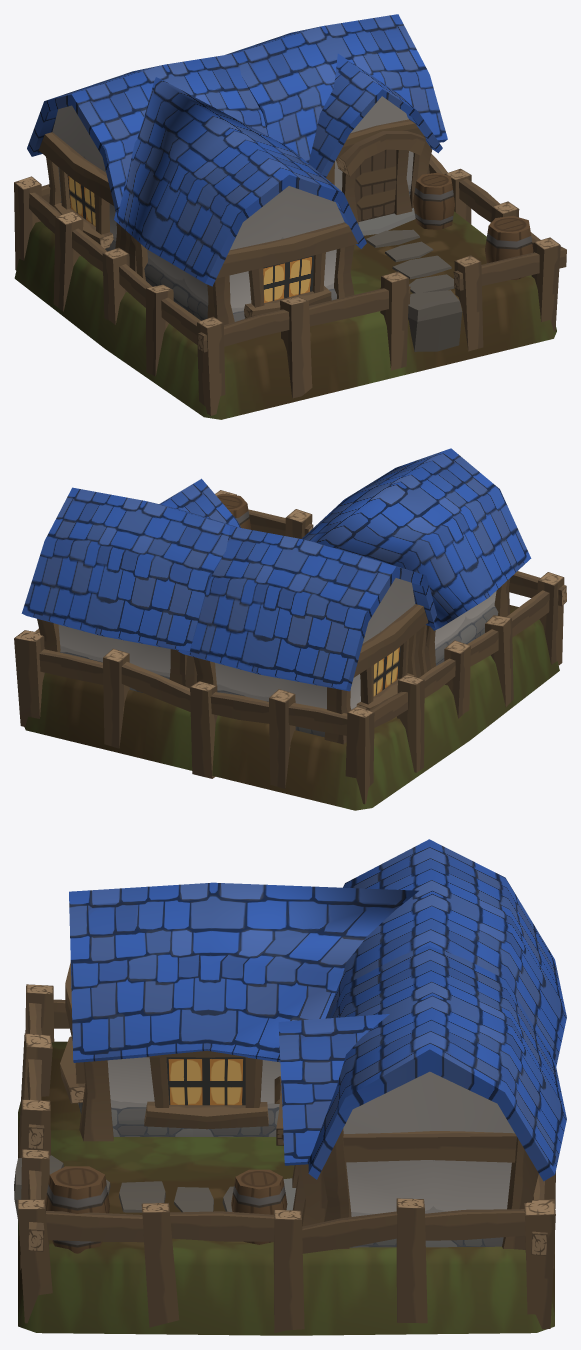
The model's file is FarmHouse.fbx.
The picture shows the model from 3 angles, top to bottom: view 1: azimuth 30°, elevation 25°; view 2: azimuth 150°, elevation 25°; view 3: azimuth 270°, elevation 25°; orthographic projection. The views are drawn at different scales.
Visible parts, largest first — view 1: FarmGround; view 2: FarmGround; view 3: FarmGround.
Boxes of the visible parts, x1,y1,x2,y2 form: FarmGround: (14,14,566,419); FarmGround: (14,448,566,810); FarmGround: (14,839,566,1335).
Size of the model in its own units: 680 by 392 by 677.
Materials: 1 (1 with a texture image).
